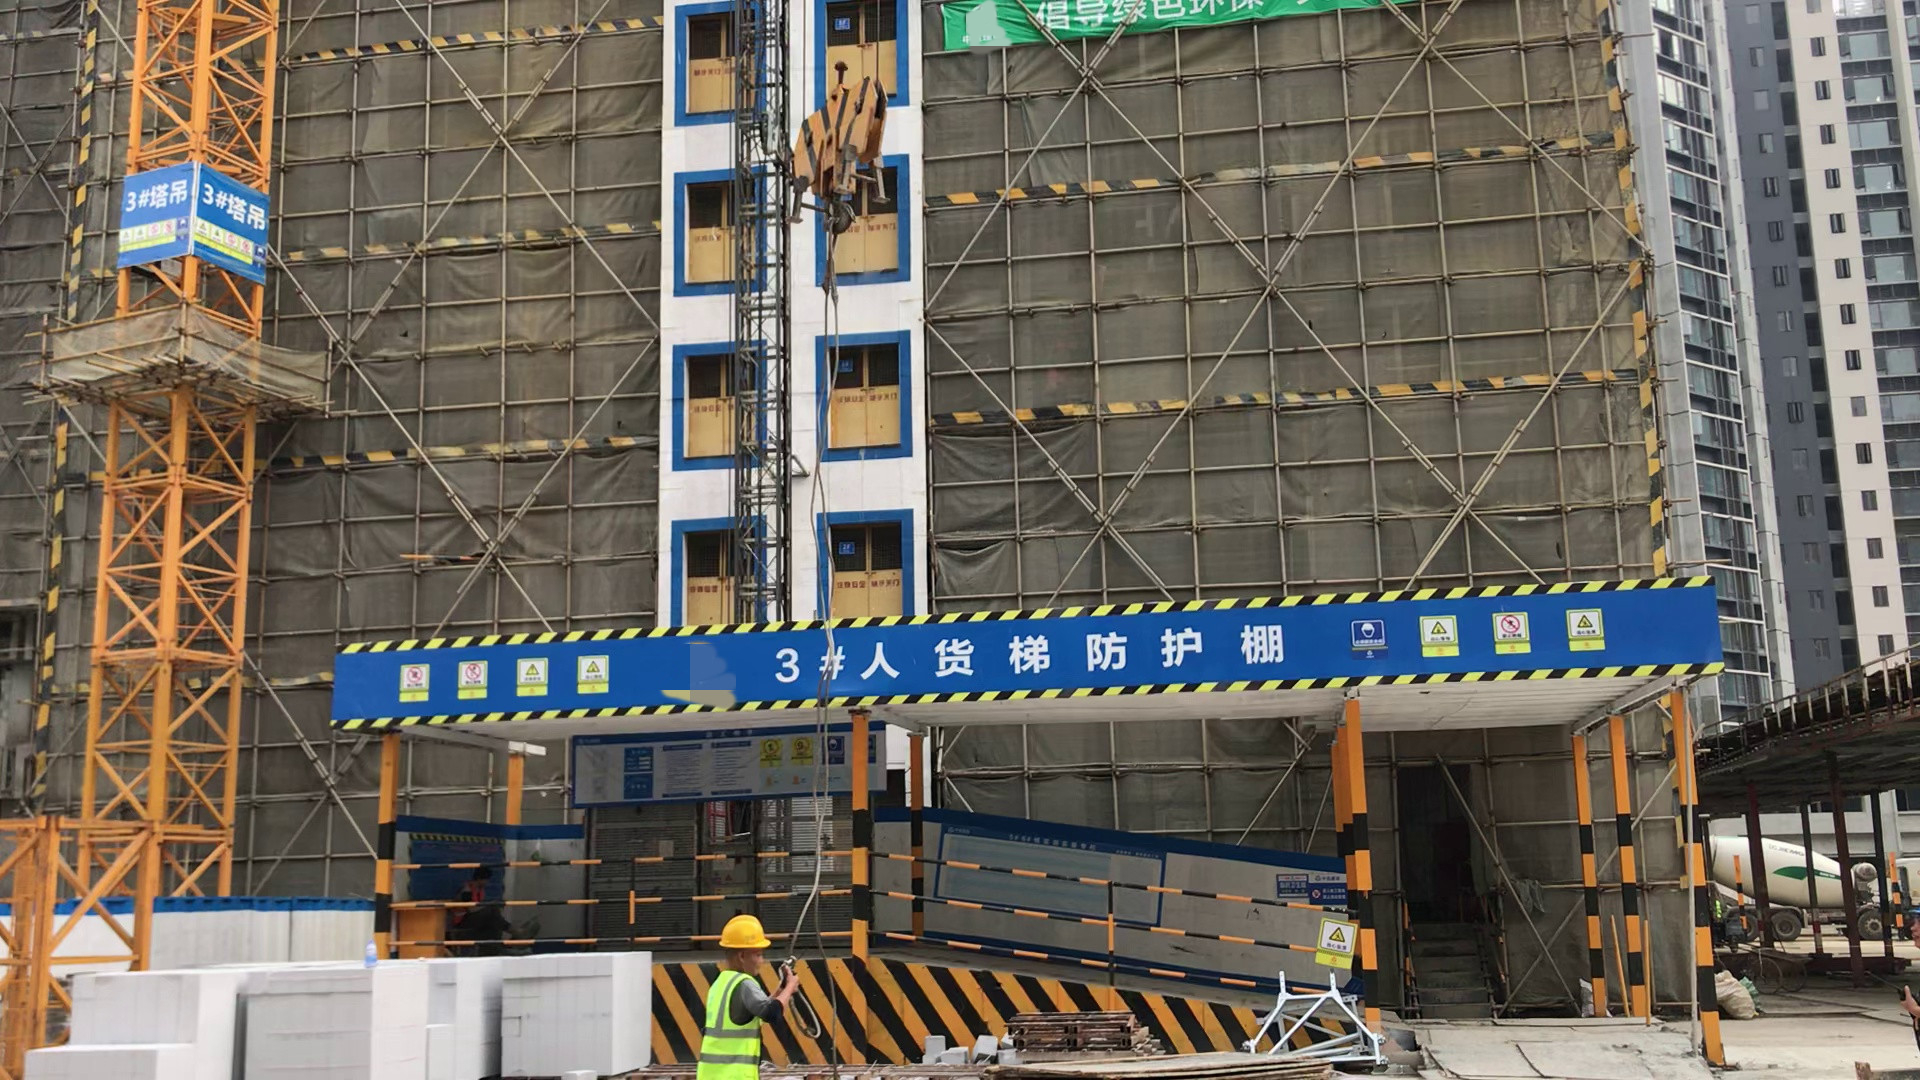brick: (26, 953, 647, 1080)
helmet: (718, 917, 774, 954)
hook: (778, 88, 915, 235)
person: (696, 915, 801, 1080)
slogan: (944, 1, 1356, 49), (1344, 605, 1620, 658), (373, 649, 618, 702), (118, 224, 263, 257), (757, 736, 879, 765), (1273, 871, 1347, 904), (1321, 919, 1351, 966)
vest: (702, 972, 760, 1080)
